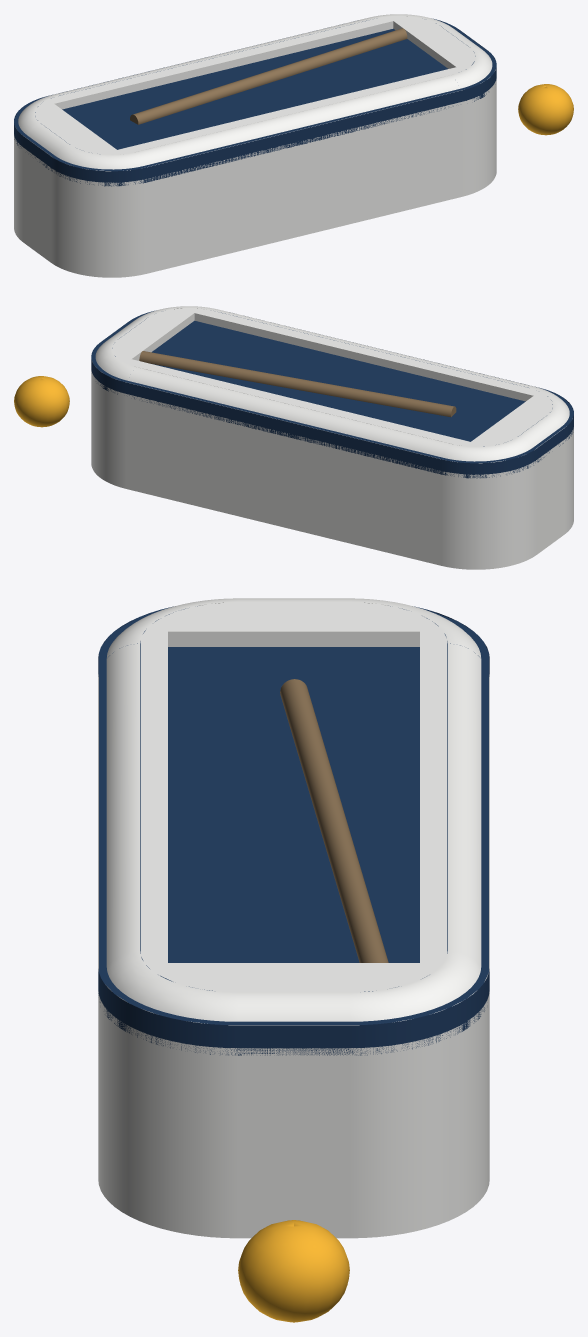
Rendered from f31-moored-dinghy.glb.
3 views of the same model, one above another, from view 1: azimuth 30°, elevation 25°; view 2: azimuth 150°, elevation 25°; view 3: azimuth 270°, elevation 25° (orthographic). The views are drawn at different scales.
Parts seen in each view (by area): view 1: part0, part1, part3, part4; view 2: part0, part1, part3, part4; view 3: part0, part1, part4, part3.
Part boxes in pixels (box(x1,y1,x2,y2)): part0: box(14, 14, 496, 277); part1: box(14, 18, 496, 186); part3: box(130, 28, 407, 124); part4: box(518, 84, 573, 135); part0: box(91, 306, 573, 569); part1: box(91, 310, 573, 478); part3: box(139, 351, 456, 417); part4: box(14, 376, 69, 427); part0: box(98, 598, 489, 1238); part1: box(98, 606, 489, 1055); part4: box(238, 1220, 349, 1322); part3: box(280, 679, 388, 962).
Size of the model in its own units: 4400 by 930 by 1400.
